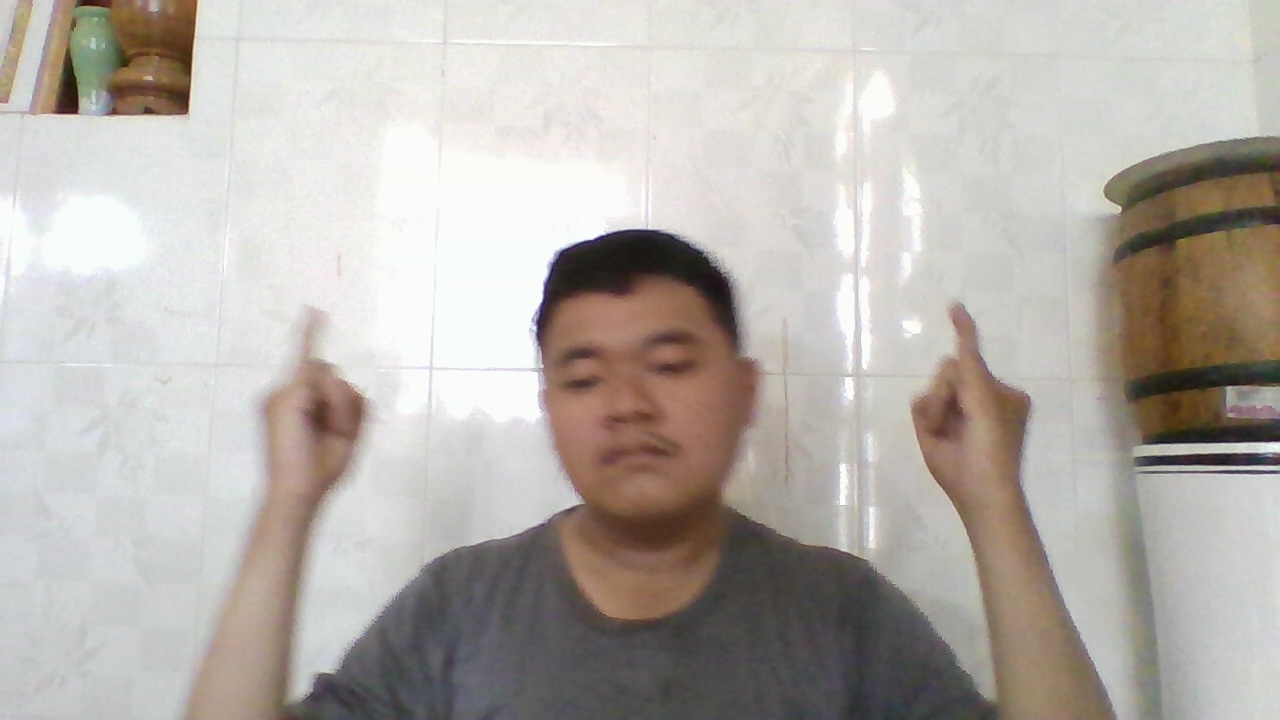I: (906, 296, 1025, 513), (266, 313, 371, 511)
